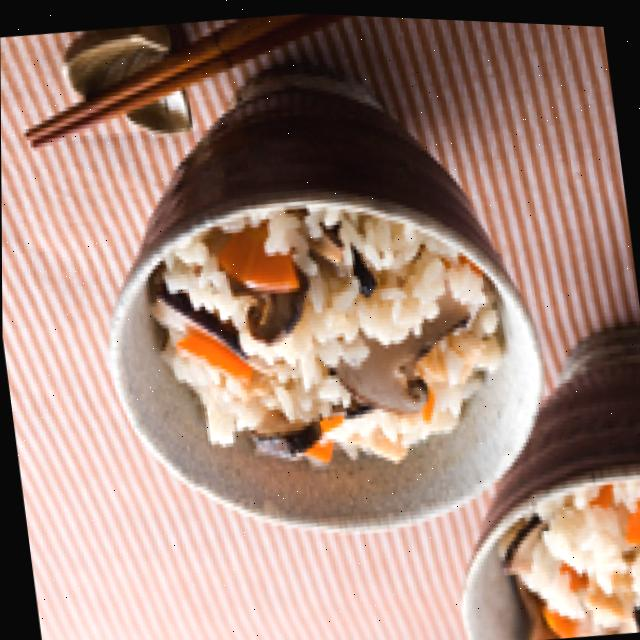米饭主食: (131, 155, 522, 514)
